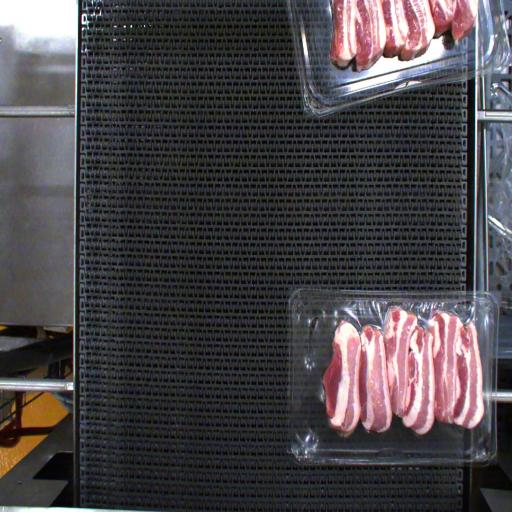unsealed: (288, 286, 494, 458)
